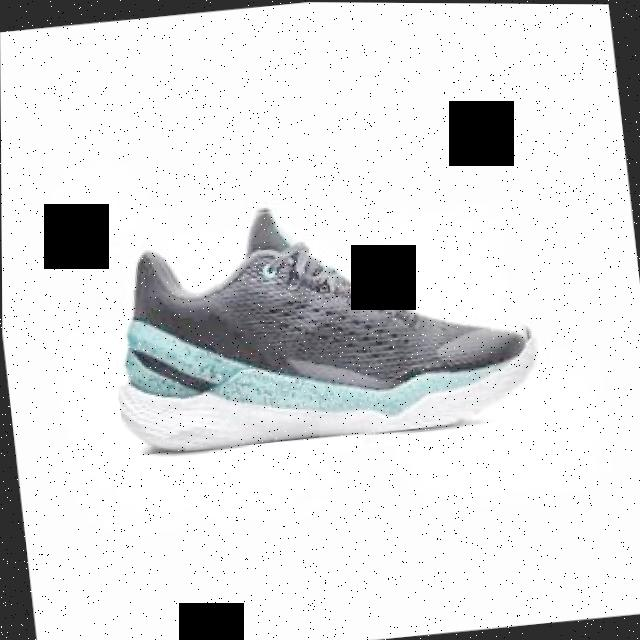shoe: (99, 180, 540, 458)
